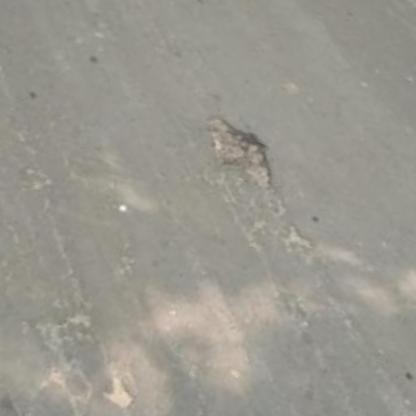pothole: (192, 110, 291, 194), (99, 371, 143, 412)
